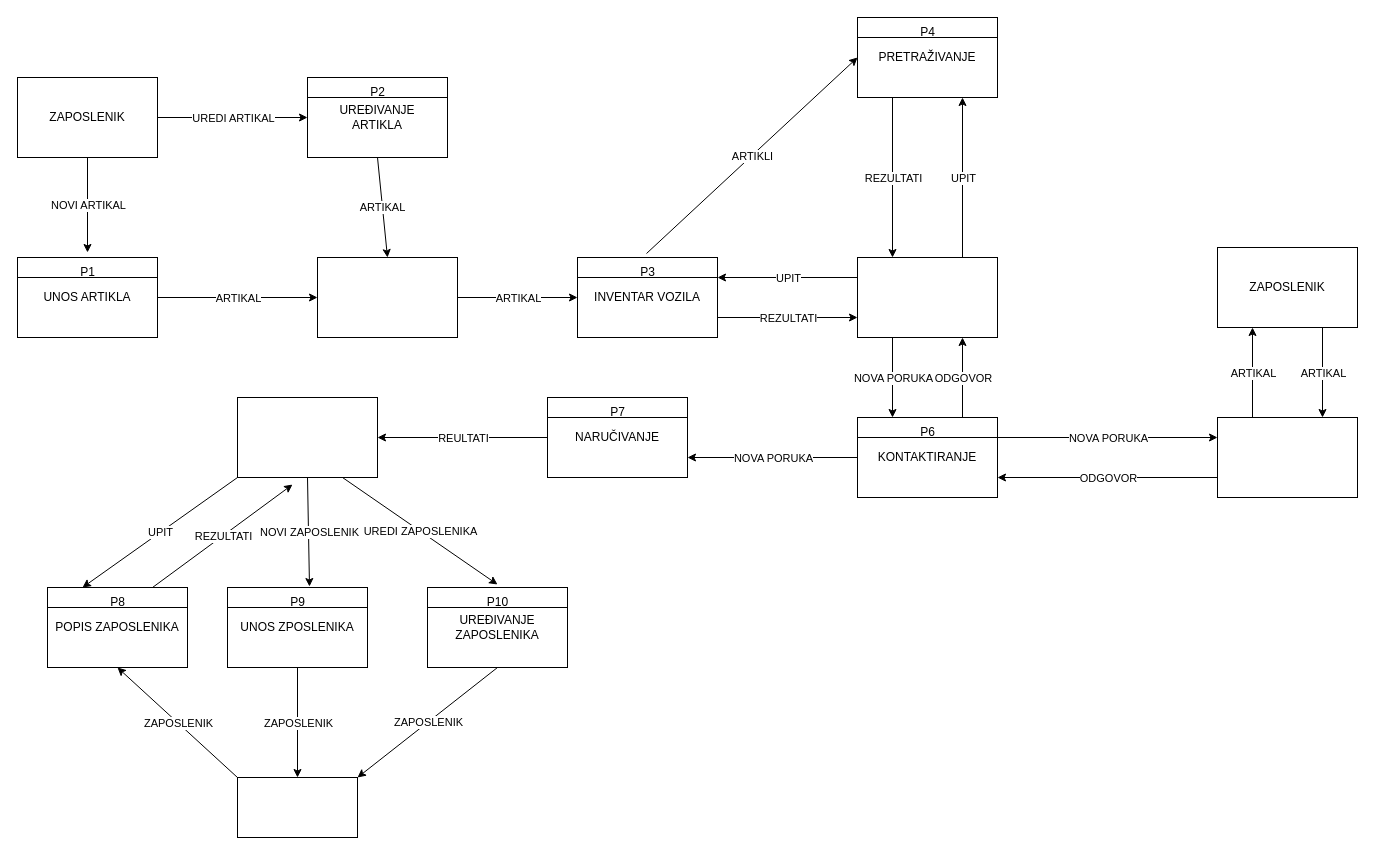
The diagram is 1375 pixels wide and 855 high, and some of its shapes have lost their labels. The shapes that lost their labels are listed below. From the top down, each one's centre as x and y in pixels, then its label:
At point (387, 297): "D1 ARTIKAL".
At point (927, 297): "KORISNIK".
At point (307, 437): "VLASNIK".
At point (1287, 457): "D3 TIKET".
At point (297, 807): "D3 ZAPOSLENIK".
